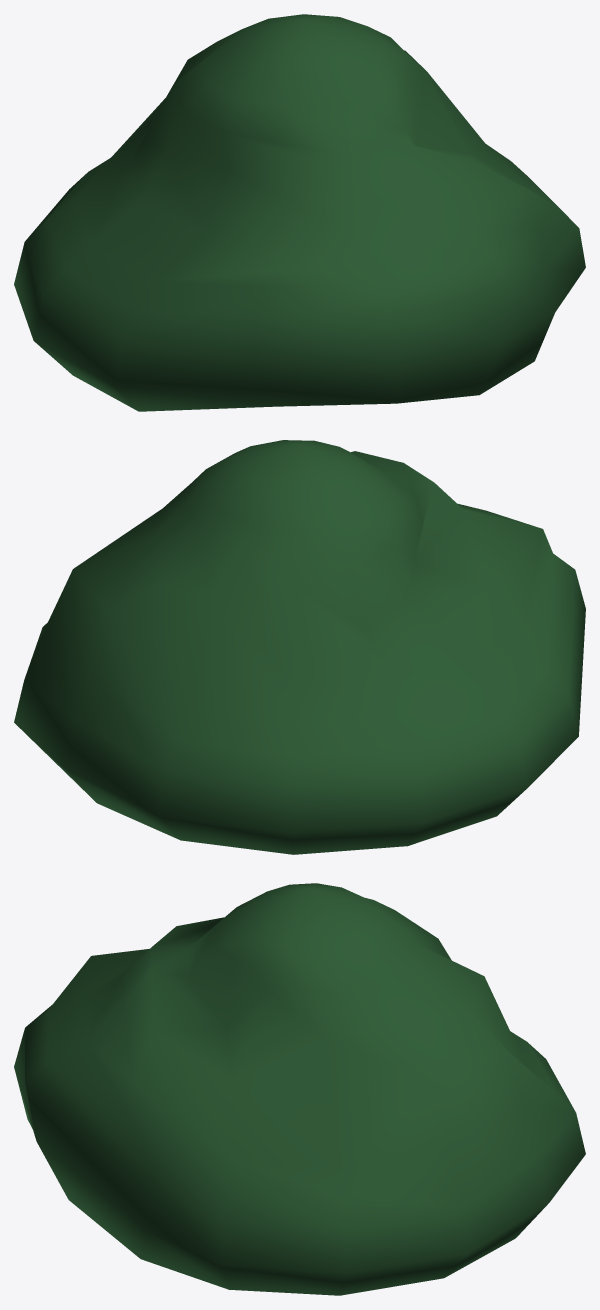
Rendered from BIGBUSH.fbx.
3 renders of one model, top to bottom at view 1: azimuth 30°, elevation 25°; view 2: azimuth 150°, elevation 25°; view 3: azimuth 270°, elevation 25°, orthographic. The views are drawn at different scales.
Visible parts, largest first — view 1: big bush; view 2: big bush; view 3: big bush.
Part boxes in pixels (<box>): big bush: <box>14,14,585,411</box>; big bush: <box>14,440,585,854</box>; big bush: <box>14,883,585,1295</box>.
Bounding box in the file's own units: 616 × 388 × 624.
